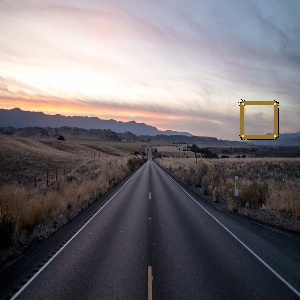square: (239, 100, 281, 140)
